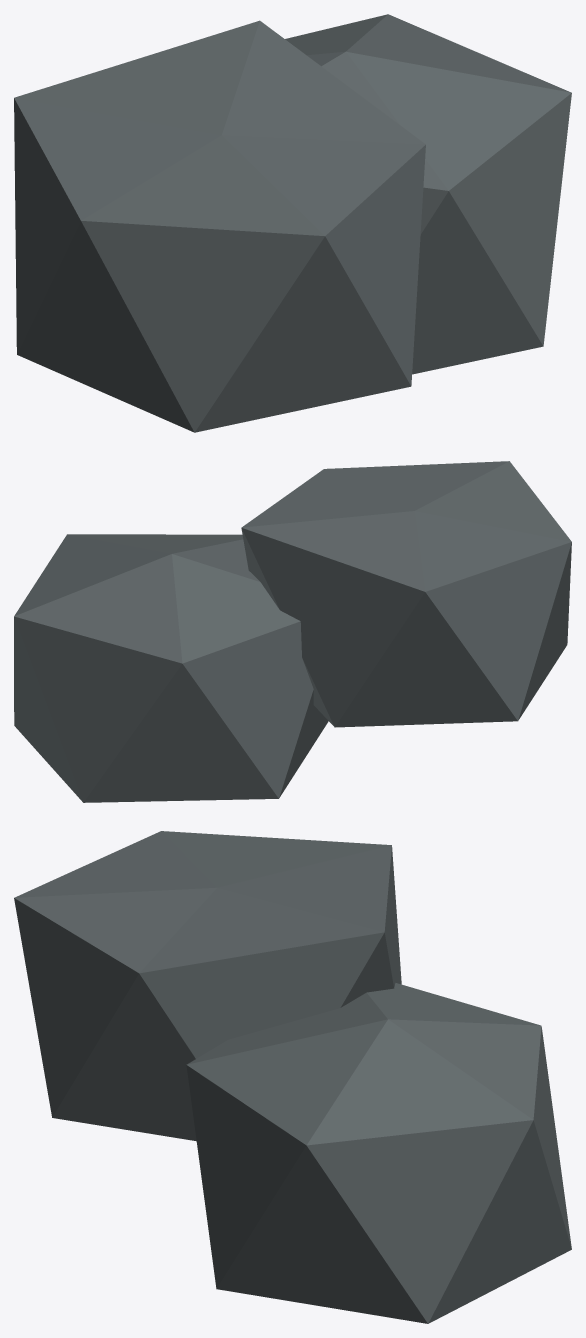
The model's file is Stones_02.fbx.
The picture shows the model from 3 angles, top to bottom: view 1: azimuth 30°, elevation 25°; view 2: azimuth 150°, elevation 25°; view 3: azimuth 270°, elevation 25°; orthographic projection. The views are drawn at different scales.
Visible parts, largest first — view 1: Stone_1.005; view 2: Stone_1.005; view 3: Stone_1.005.
Boxes of the visible parts, x1,y1,x2,y2 form: Stone_1.005: (14,14,571,432); Stone_1.005: (14,461,571,802); Stone_1.005: (14,831,571,1323).
Bounding box in the file's own units: 0.3111 × 0.2919 × 0.1578.
1 material, 1 textured.
